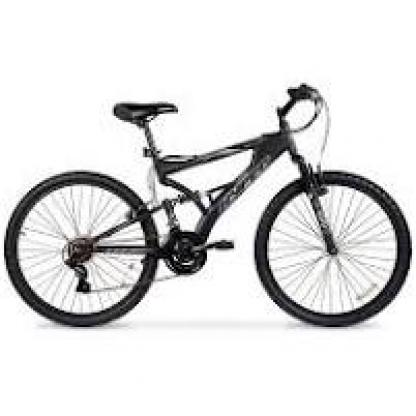Bike: (0, 77, 416, 329)
